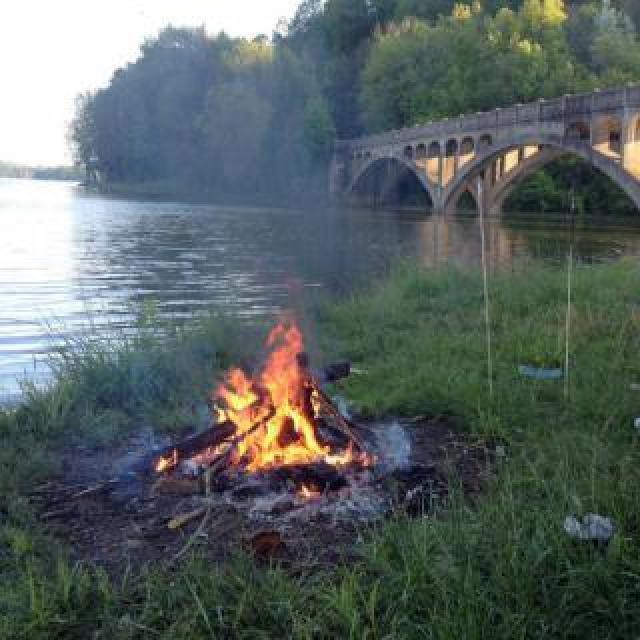Fire: (194, 308, 326, 464)
